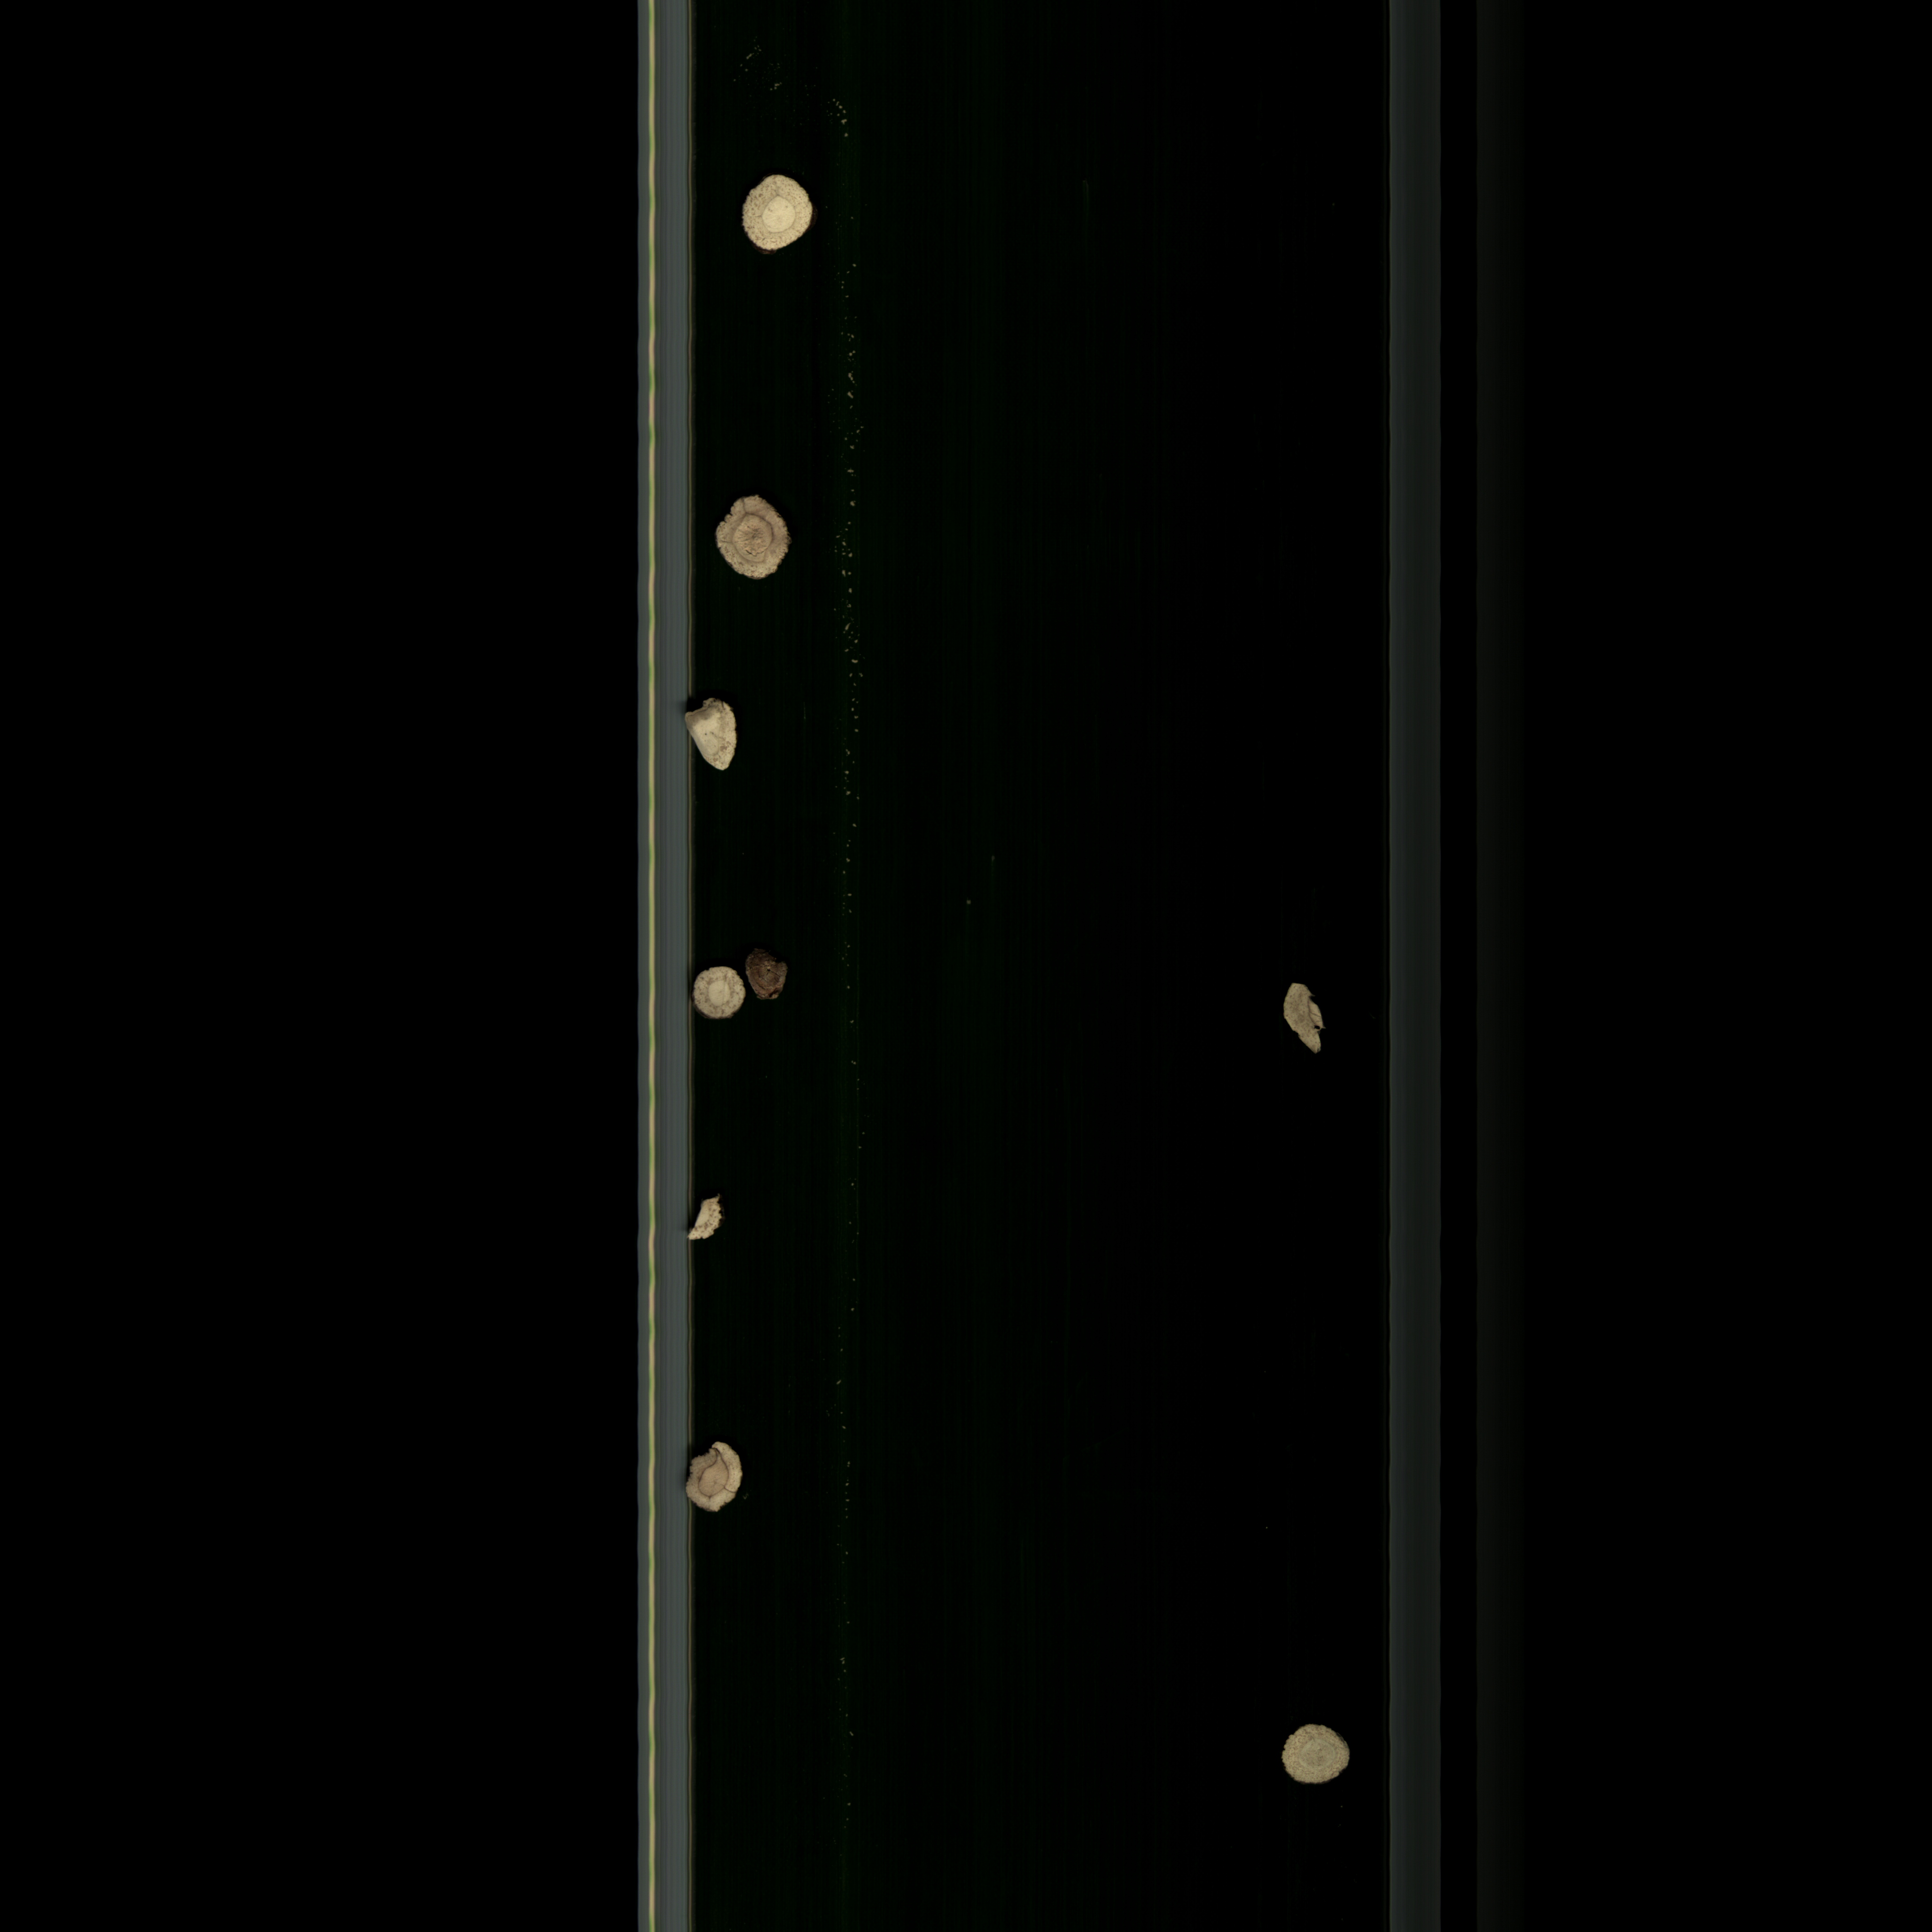debris: (676, 692, 763, 786), (1279, 970, 1339, 1062)
dreg: (688, 1192, 731, 1249)
moldy: (713, 487, 801, 586), (683, 1437, 750, 1523), (741, 943, 816, 1007)
